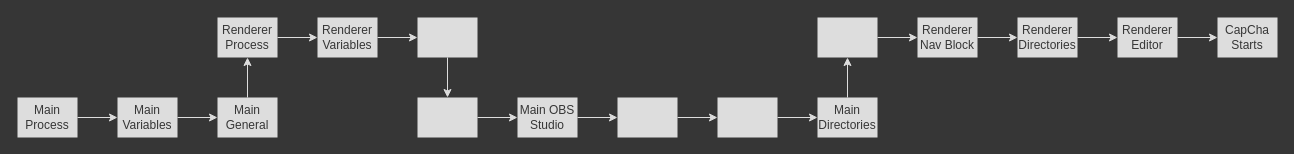
Some shapes in this 1294 by 154 pixel diagram are drawn without their labels. The shapes that lost their labels are listed below. From the top down, each one's centre as x and y in pixels, then its label:
the point at 447,37: Renderer General
the point at 847,37: Renderer Settings
the point at 447,117: Main Editor
the point at 647,117: Main WebSocket
the point at 747,117: Main Settings
